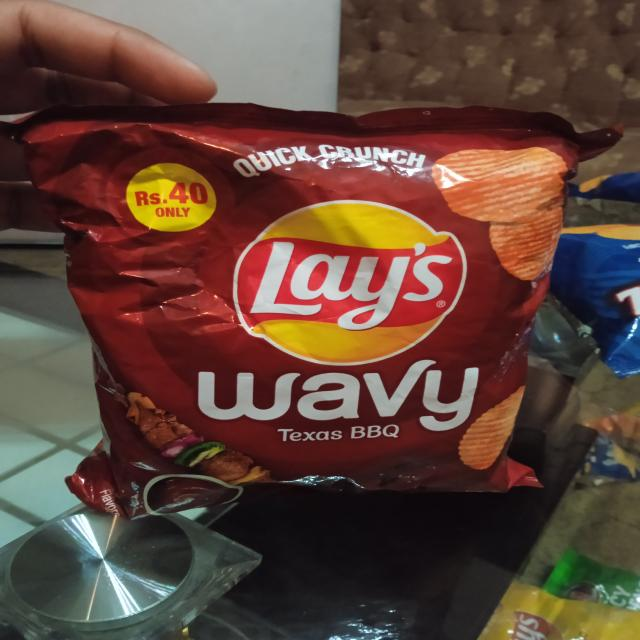Plastic: (22, 95, 534, 511), (545, 217, 640, 360), (472, 575, 640, 637), (562, 546, 640, 602)
